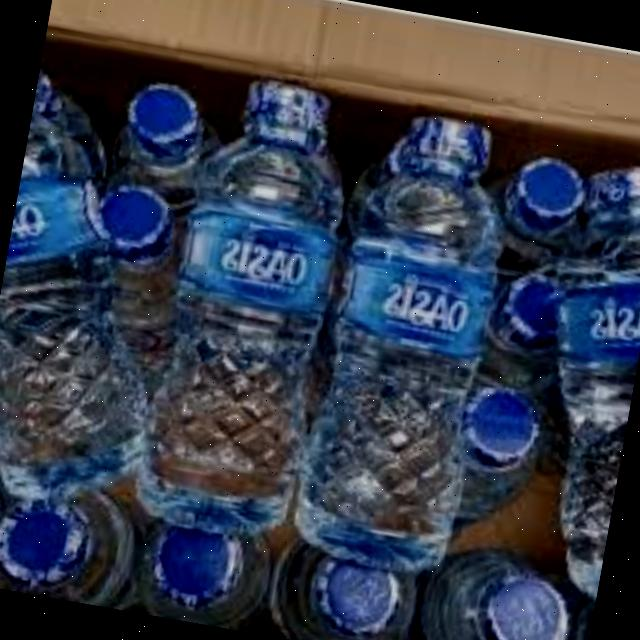trash: (267, 100, 498, 564), (96, 58, 333, 510), (0, 34, 218, 525), (485, 153, 640, 588), (36, 178, 205, 390), (131, 472, 283, 634), (404, 517, 602, 640), (71, 68, 227, 218), (416, 380, 549, 536), (0, 460, 138, 609), (470, 138, 608, 283), (261, 519, 421, 640), (455, 259, 581, 402), (556, 580, 598, 640), (0, 334, 17, 462)
